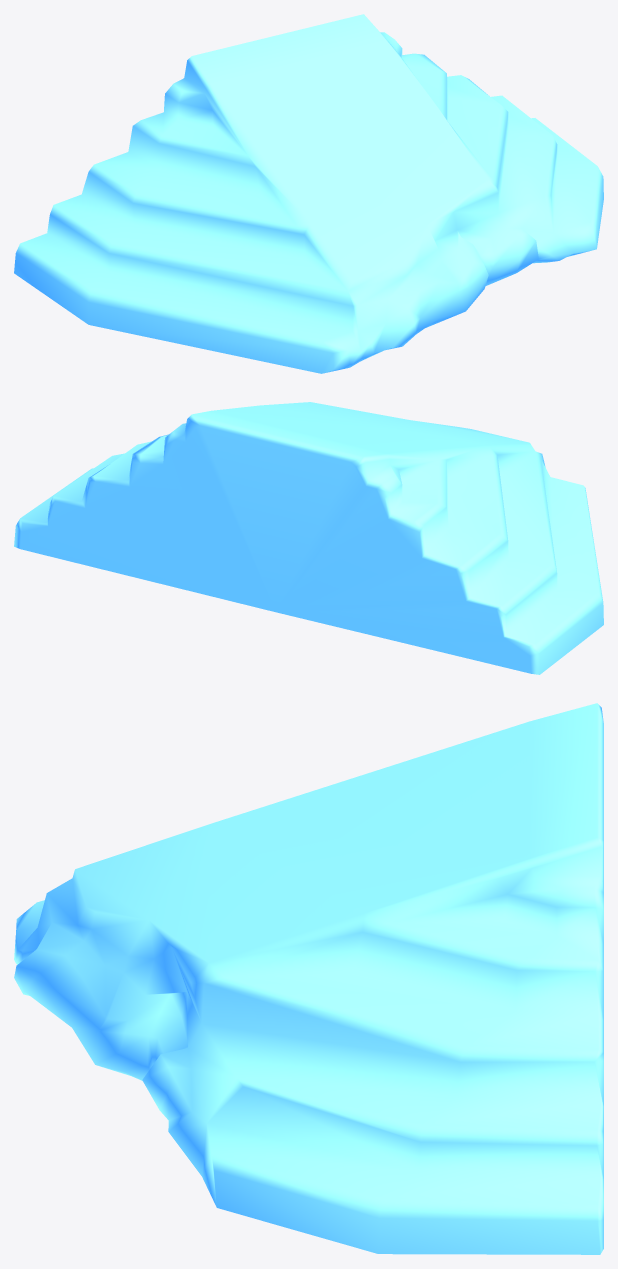
Rendered from ramp_stairway_rubble02_002.fbx.
3 views of the same model, one above another, from view 1: azimuth 30°, elevation 25°; view 2: azimuth 150°, elevation 25°; view 3: azimuth 270°, elevation 25° (orthographic). The views are drawn at different scales.
Parts seen in each view (by area): view 1: ramp_stairway_rubble02.002; view 2: ramp_stairway_rubble02.002; view 3: ramp_stairway_rubble02.002.
Boxes of the visible parts, x1,y1,x2,y2 form: ramp_stairway_rubble02.002: (14, 14, 603, 373); ramp_stairway_rubble02.002: (14, 402, 603, 674); ramp_stairway_rubble02.002: (14, 703, 603, 1254).
Bounding box in the file's own units: 33054 × 10725 × 20085.
